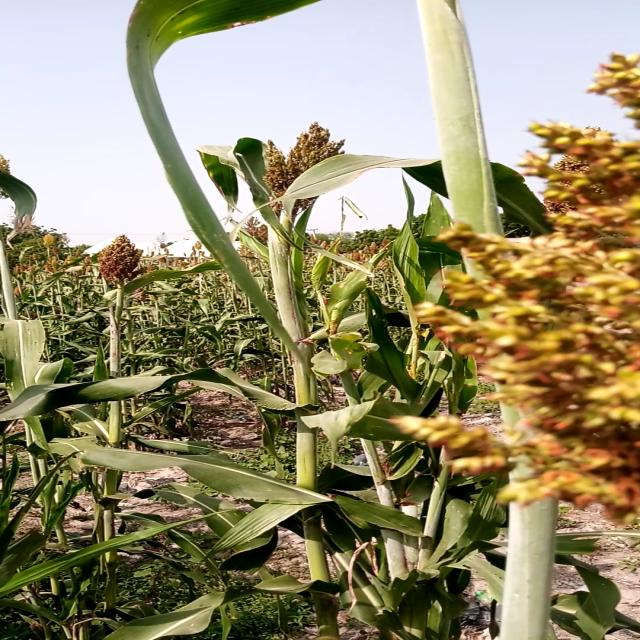UnripeSorghum: (435, 38, 640, 554)
